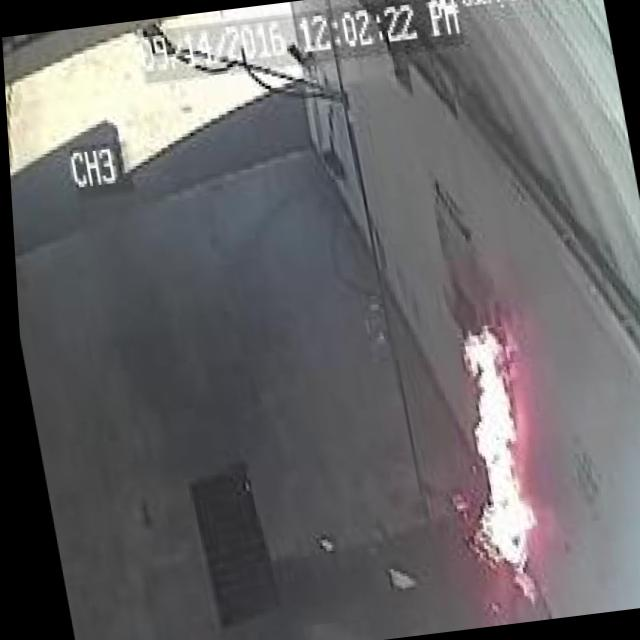fire: (428, 304, 562, 580)
